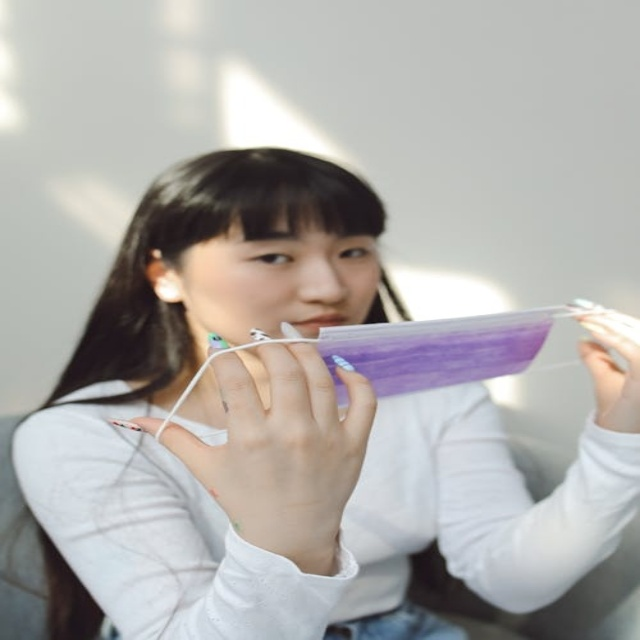Sin_gafas: (216, 236, 381, 276)
Sin_guantes: (130, 331, 379, 546), (558, 292, 636, 431)
Sin_mascara: (288, 303, 360, 336)
